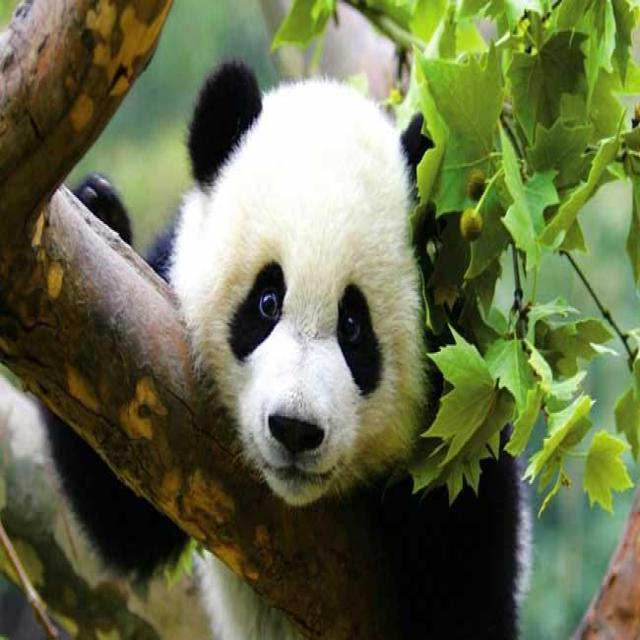panda: (146, 51, 469, 510)
